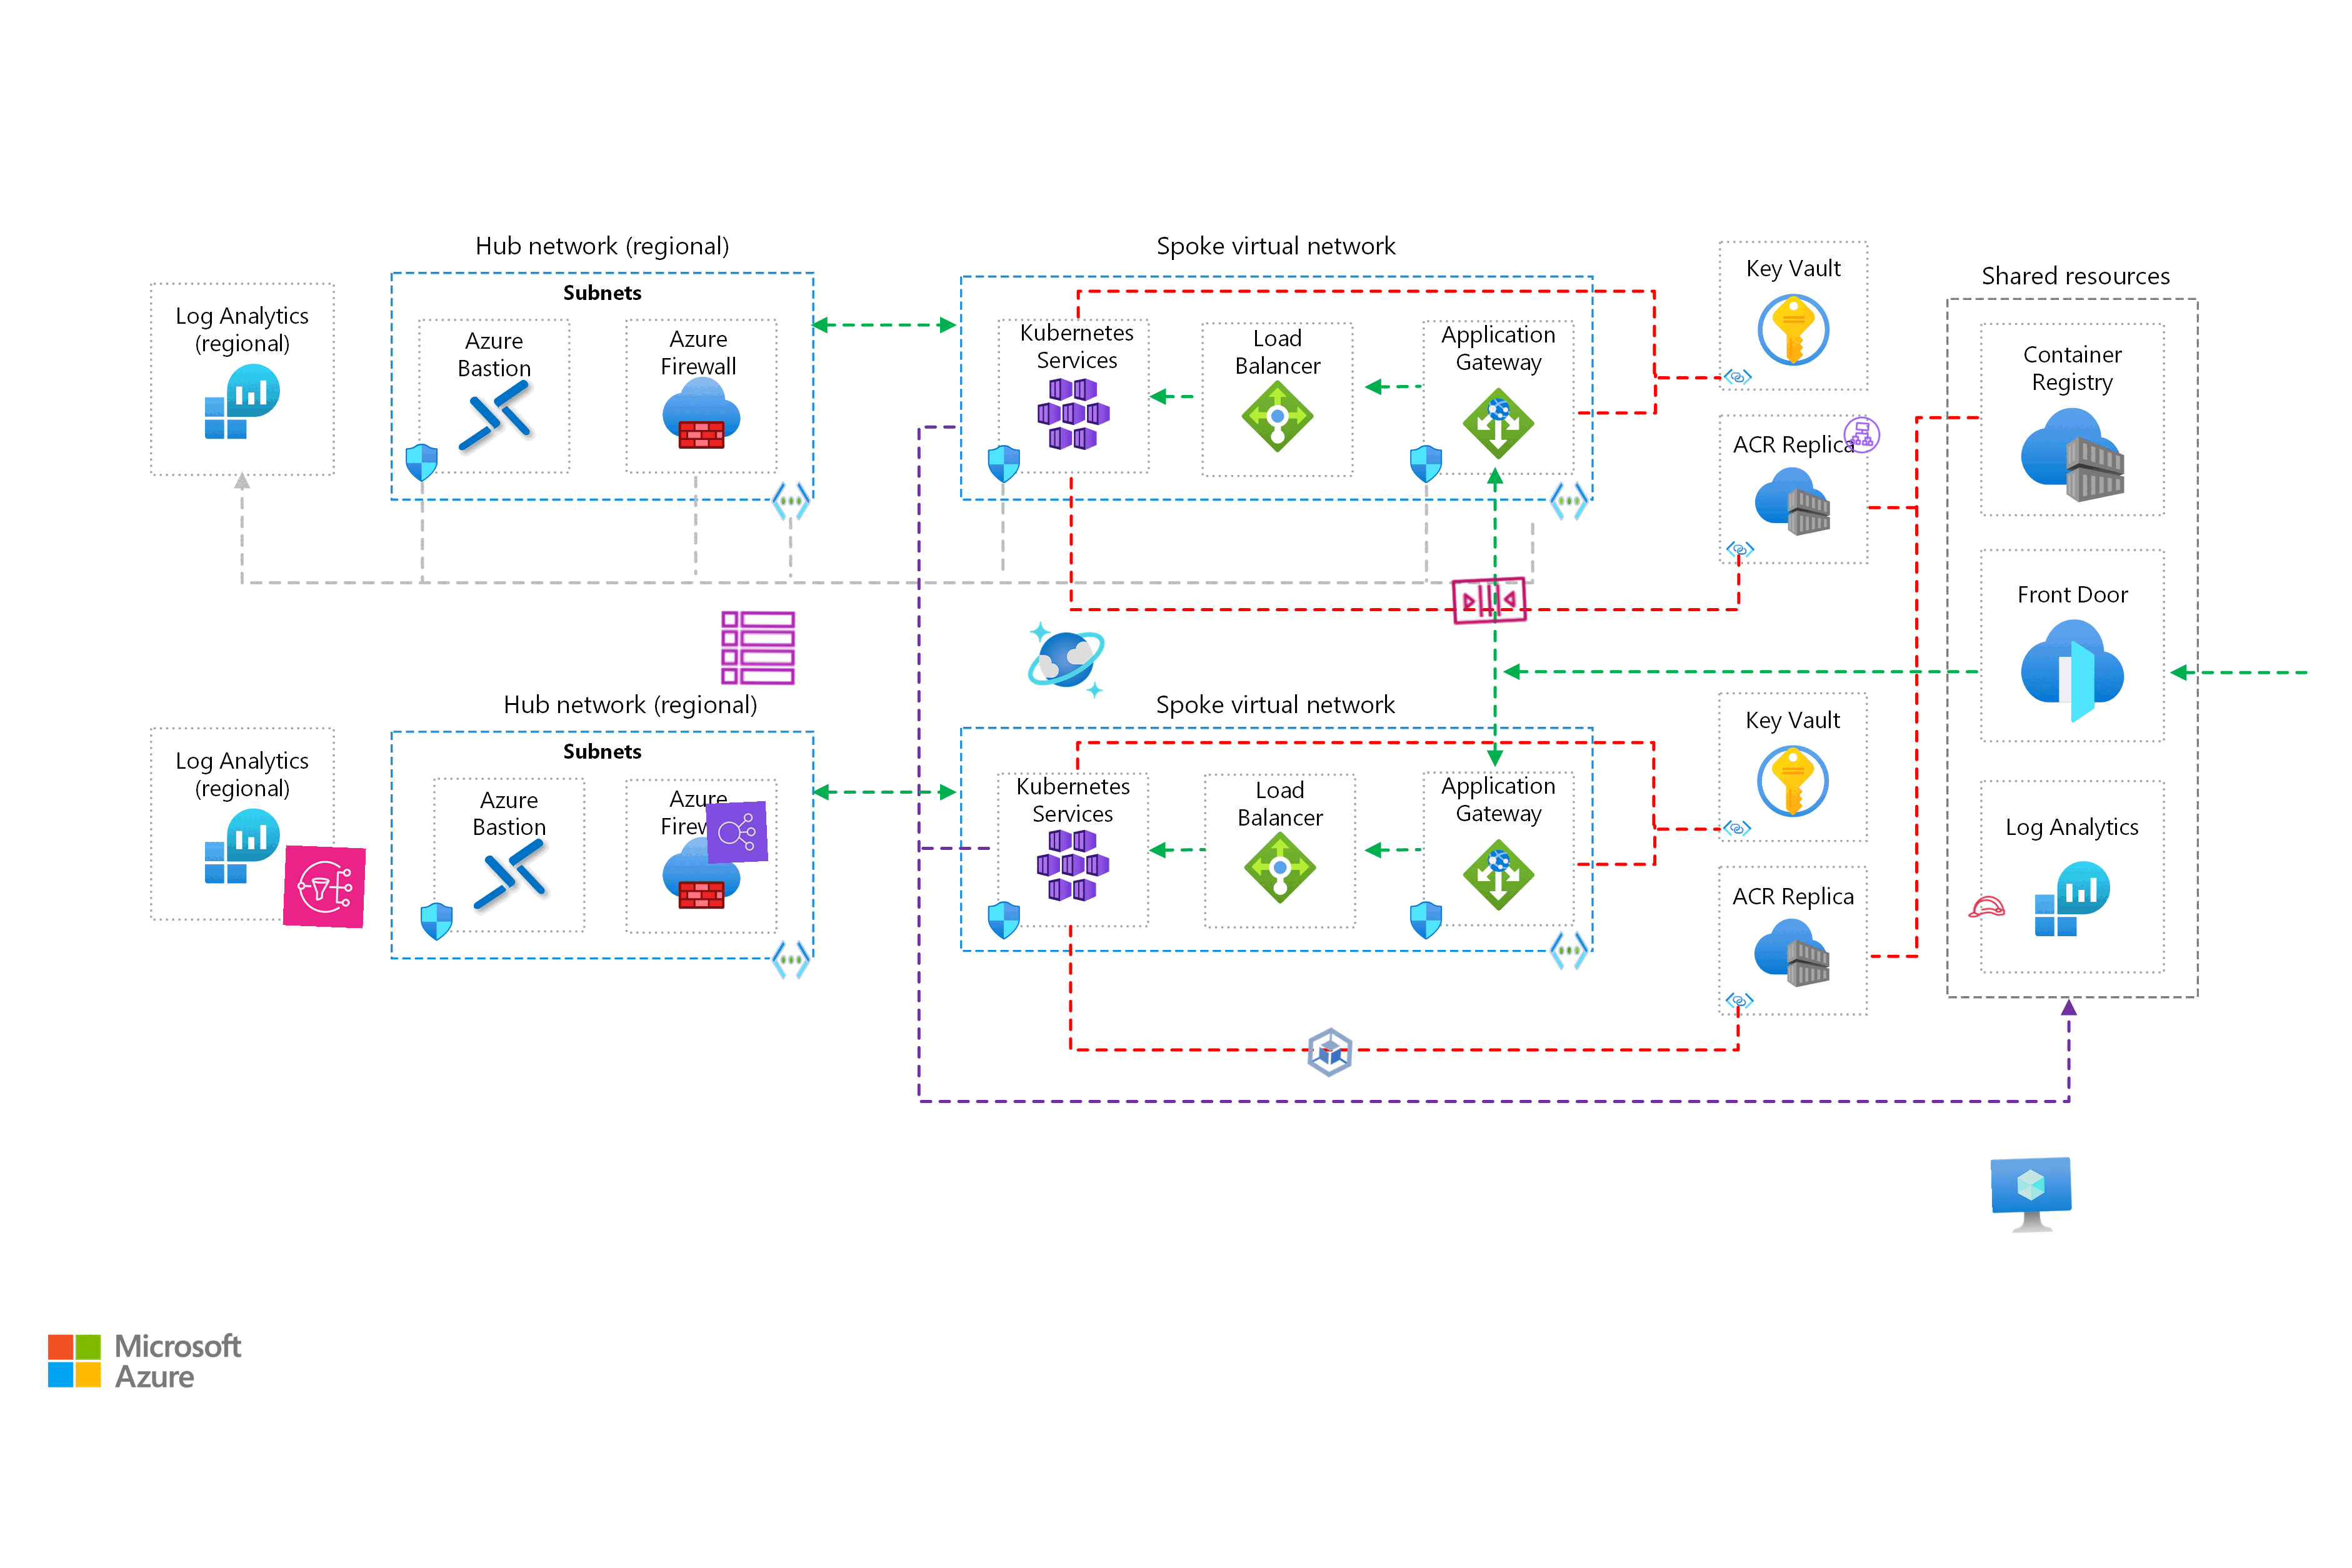aws_amazon_simple_notification_service: (282, 845, 366, 929)
aws_dynamodb_table: (717, 607, 798, 689)
aws_elastic_load_balancing: (705, 800, 768, 864)
aws_elastic_load_balancing_application_load_balancer: (1839, 413, 1883, 457)
aws_identity_access_management_role: (1965, 885, 2007, 927)
aws_simple_queue_service_queue: (1447, 558, 1531, 642)
azure_cosmos_db: (1024, 618, 1108, 702)
azure_virtual_machine: (1990, 1155, 2074, 1239)
gcp_google_kubernetes_engine: (1298, 1020, 1361, 1085)
